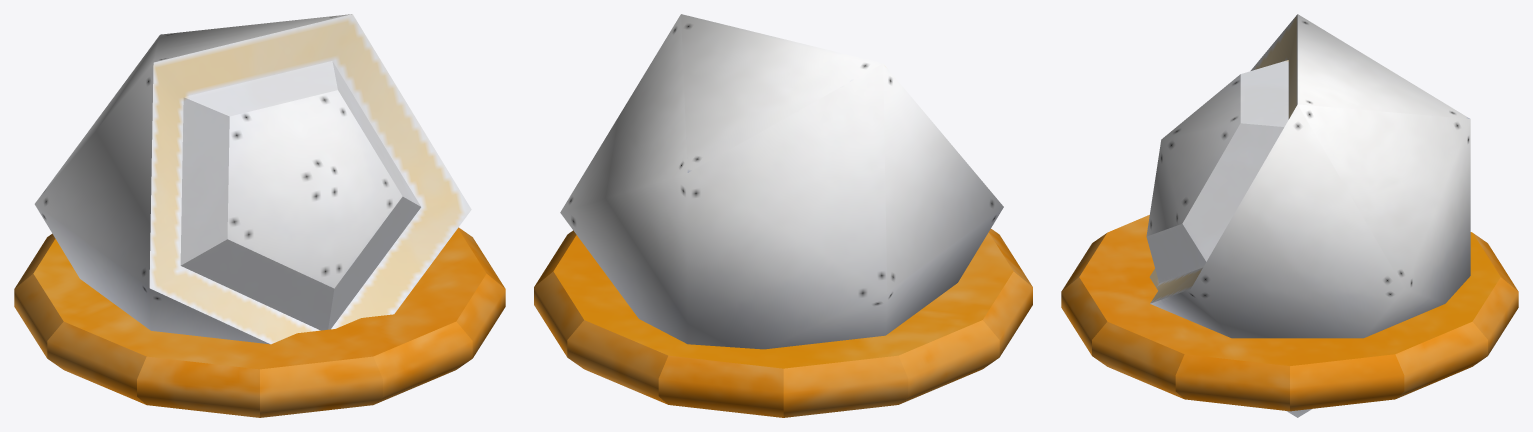
Rendered from Hull_06.fbx.
3 views of the same model, side by side, from view 1: azimuth 30°, elevation 25°; view 2: azimuth 150°, elevation 25°; view 3: azimuth 270°, elevation 25° (orthographic). The views are drawn at different scales.
Visible parts, largest first — view 1: Hull_06; view 2: Hull_06; view 3: Hull_06.
Boxes of the visible parts, x1,y1,x2,y2 form: Hull_06: (14,14,505,417); Hull_06: (534,14,1032,417); Hull_06: (1061,14,1518,417).
Bounding box in the file's own units: 20.14 × 15.25 × 20.14.
